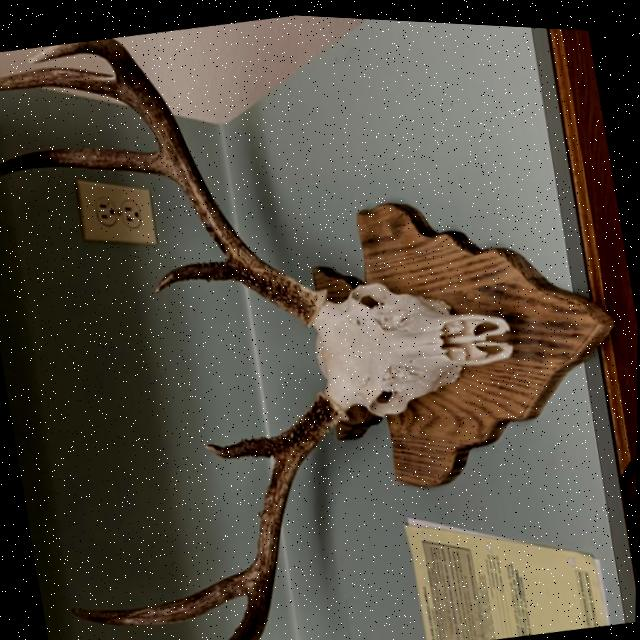L-F: (226, 388, 348, 640)
L-G1: (204, 431, 280, 457)
L-G2: (70, 563, 252, 624)
R-F: (26, 36, 326, 326)
R-G1: (154, 256, 236, 291)
R-G2: (0, 146, 168, 175)
R-G3: (0, 66, 125, 101)
